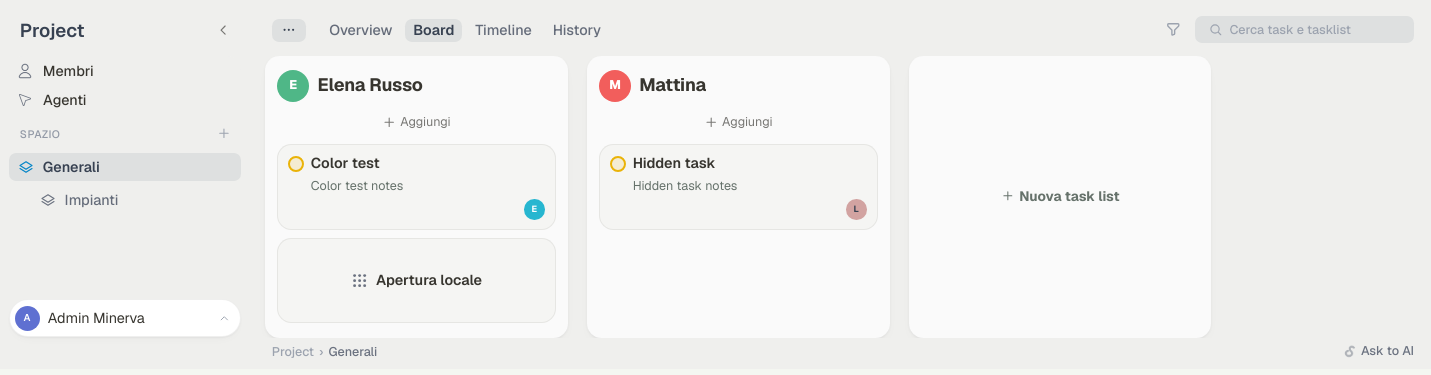
board shell › shows one category and one canonical task for legacy preset duplicates
The width and height of the screenshot is (1431, 375).
Click the button with aria-label "Apri preset Apertura locale": (416, 281) [290, 252, 543, 309]
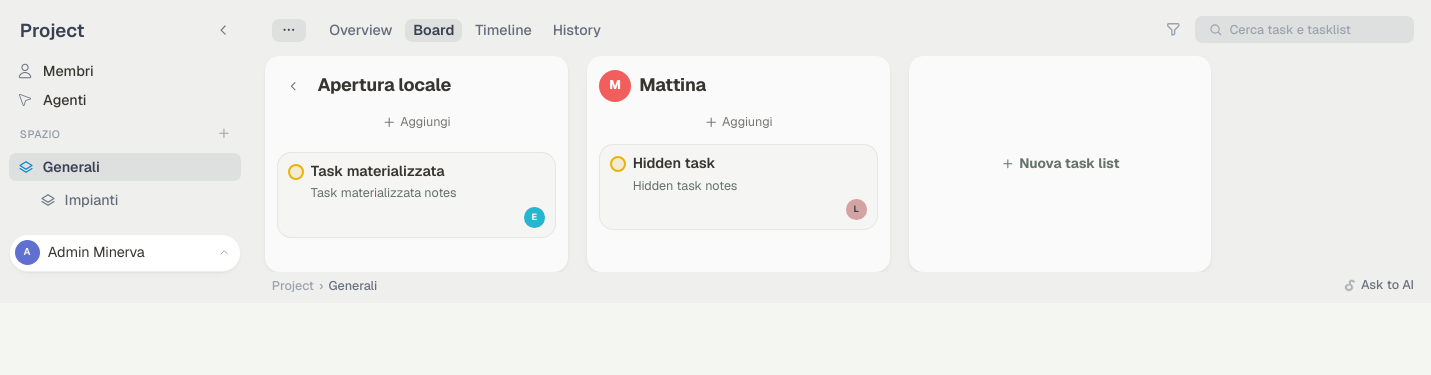
Now the text "Task materializzata" is shown once, box [311, 162, 444, 180]
